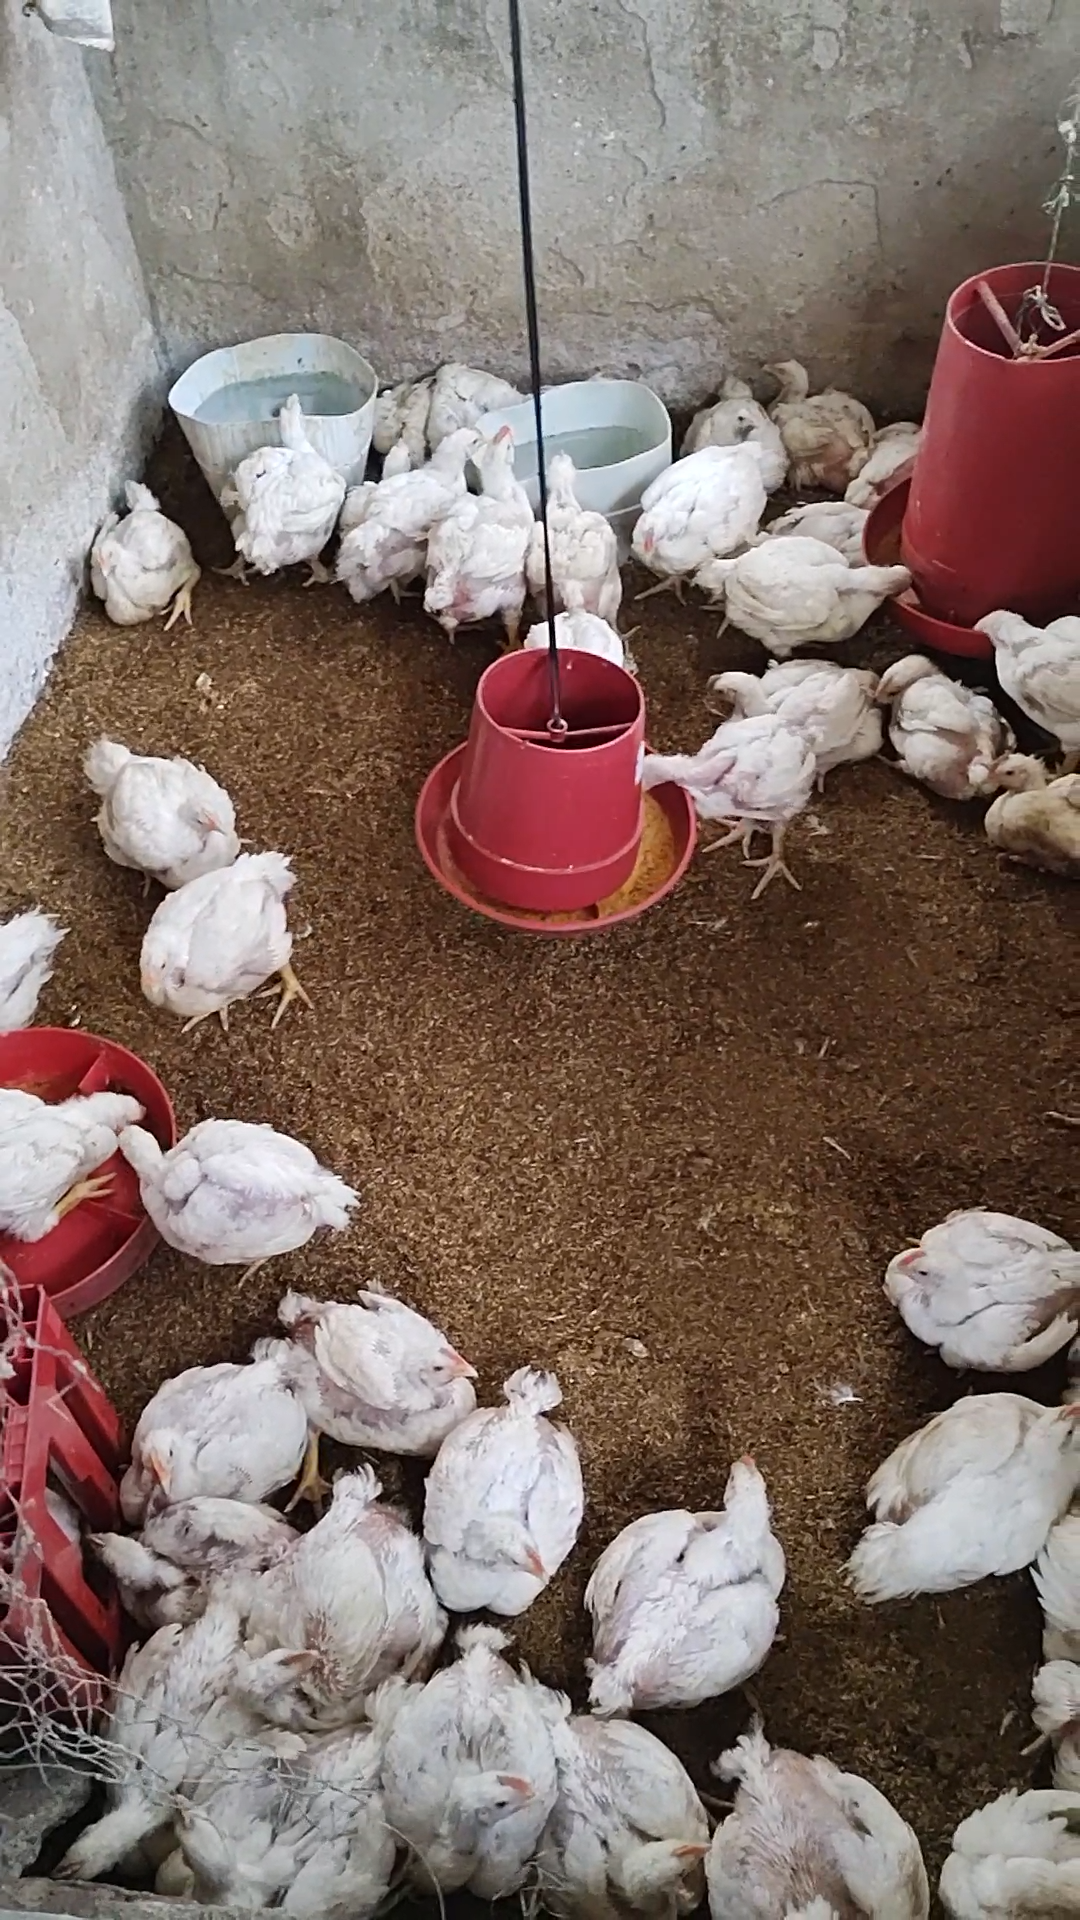Pollos: (46, 1592, 251, 1905), (216, 1493, 436, 1735), (833, 1399, 1080, 1611), (592, 1443, 783, 1713), (164, 1702, 404, 1915), (377, 1634, 564, 1898), (109, 1110, 367, 1288), (702, 1731, 932, 1920), (521, 1700, 712, 1920), (874, 1193, 1080, 1377), (135, 847, 320, 1042), (624, 716, 822, 899), (418, 1402, 585, 1614), (280, 1296, 491, 1462), (684, 527, 924, 653), (331, 421, 488, 607), (71, 733, 251, 895), (0, 1067, 153, 1250), (131, 1346, 309, 1501), (417, 415, 534, 640), (616, 436, 773, 592), (216, 390, 338, 587), (866, 640, 1011, 789), (698, 657, 884, 773), (84, 469, 203, 630), (756, 344, 886, 489), (957, 600, 1080, 741), (524, 446, 616, 618), (82, 1518, 206, 1627), (680, 368, 785, 495), (982, 727, 1080, 858)
